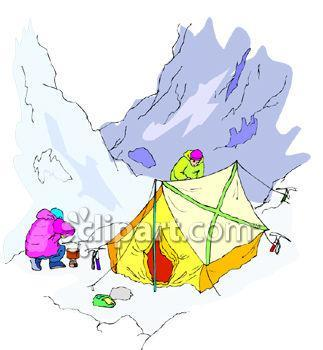person: (21, 207, 72, 270), (167, 146, 206, 182)
